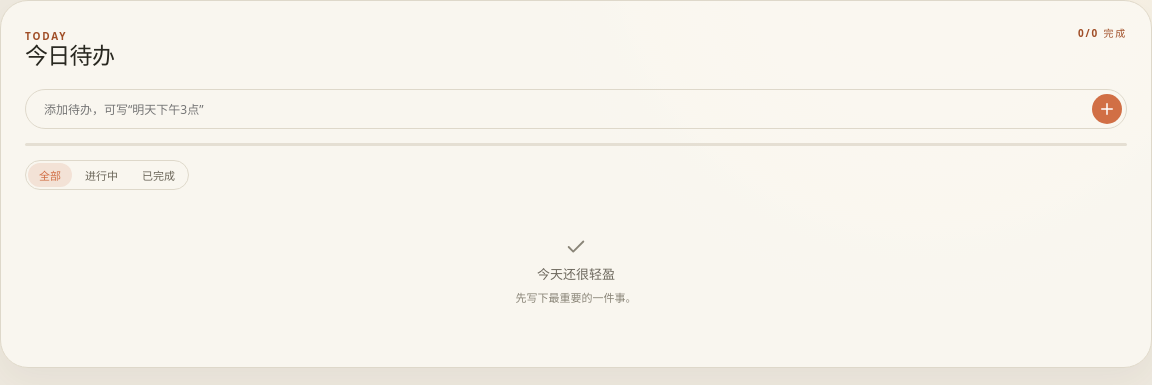
it: TodayTasksPanel 快捷添加 › 回车提交：任务入列、输入框清空、列表渲染新行
In the field named "待办标题": (563, 109) [42,100,1084,118], type "写周报"
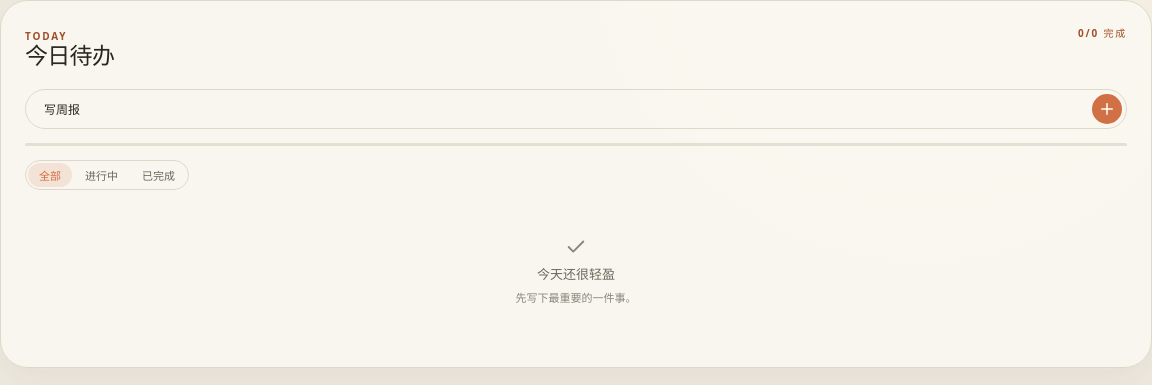
Submit the form named "待办标题", box [25,89,1127,129]
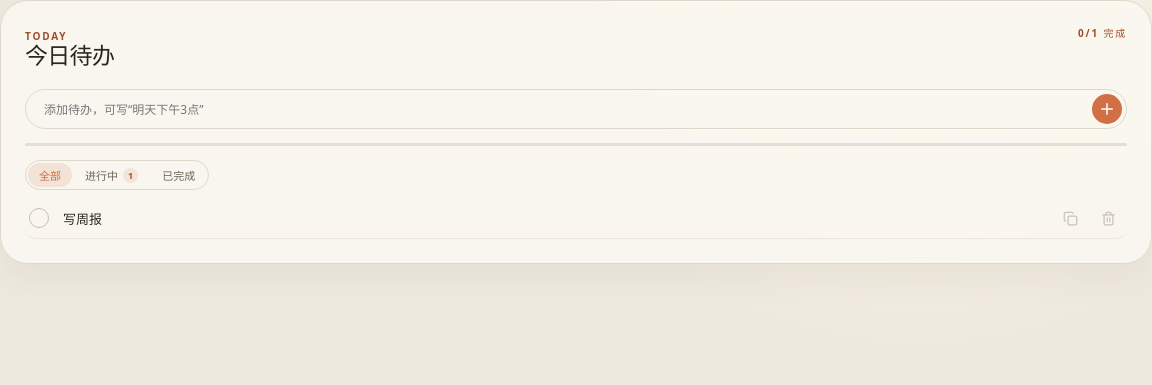
Check: the field named "待办标题" is empty, box [42,100,1084,118]
Check: the text "写周报" is shown, box [63,208,102,228]
